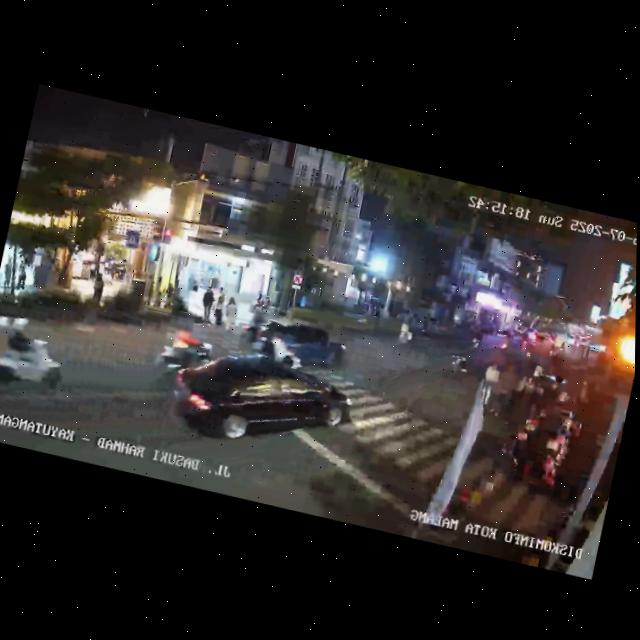car: (165, 339, 359, 469), (236, 306, 349, 376)
motorcycle: (0, 318, 72, 403), (155, 320, 217, 384), (259, 325, 309, 372), (445, 350, 473, 384), (394, 316, 419, 351), (469, 327, 486, 351)
person: (489, 362, 519, 419), (477, 360, 503, 408), (197, 285, 217, 325), (221, 292, 241, 332), (212, 292, 229, 328), (92, 271, 108, 303), (15, 263, 29, 293), (3, 261, 17, 290)
